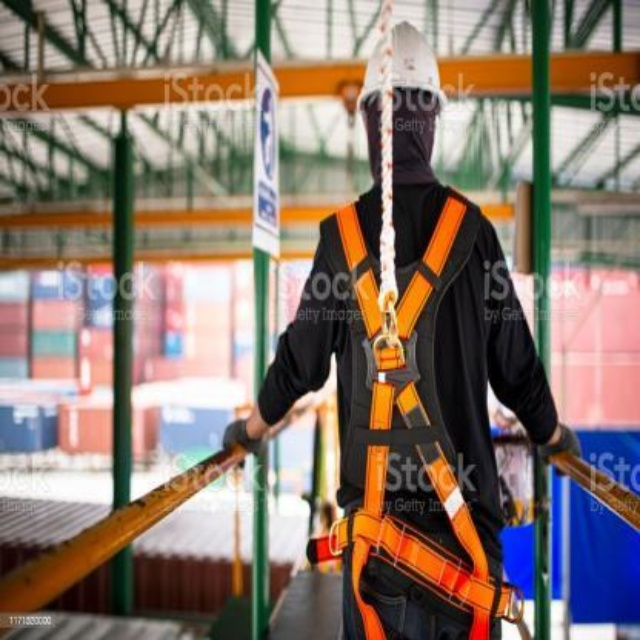Arnes_seguridad: (326, 197, 496, 640)
